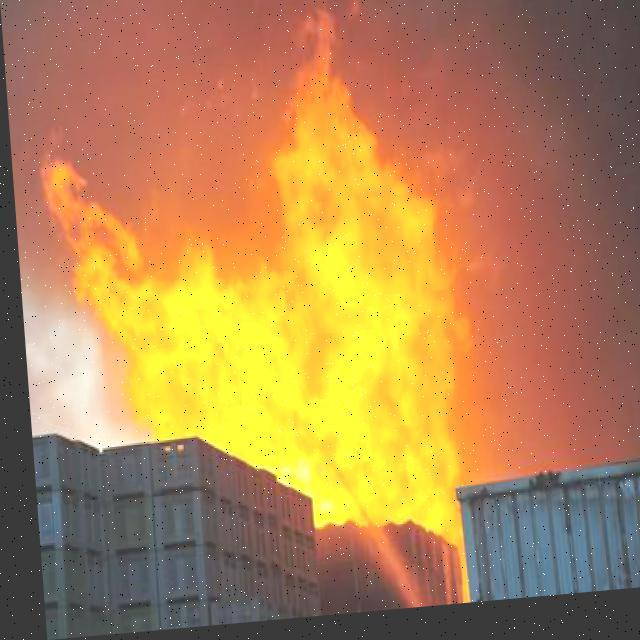Fire: (29, 0, 474, 581)
